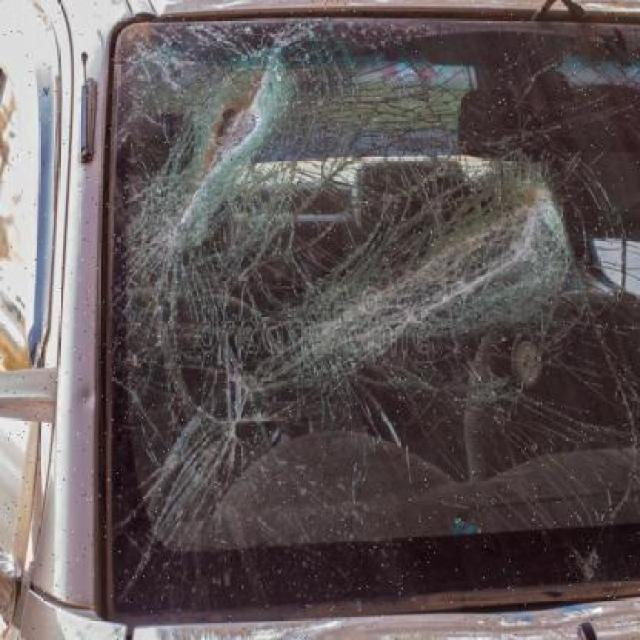Front-Windscreen-Damage: (89, 20, 640, 639)
